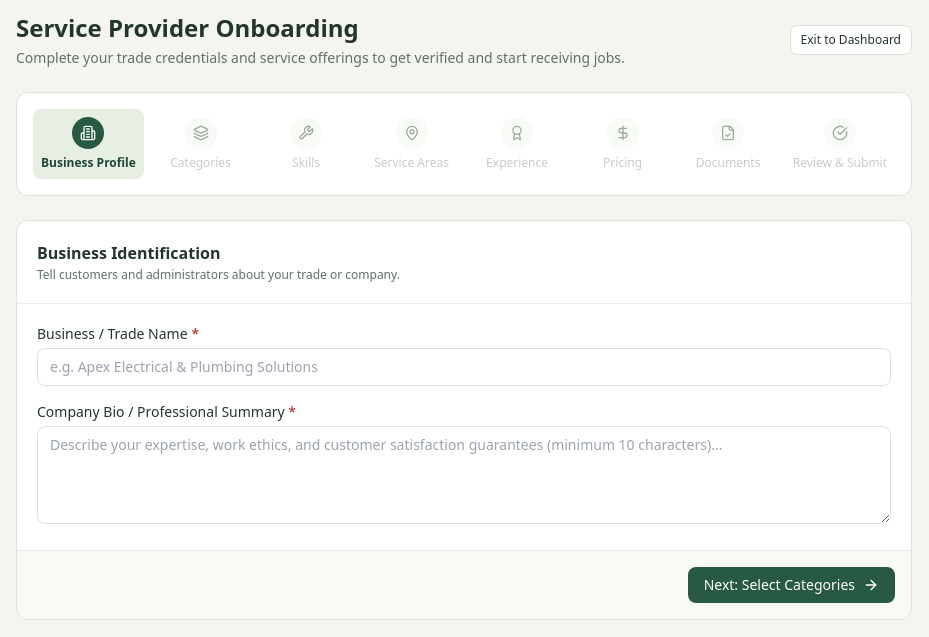
Scenario: Milestone 4: Provider Onboarding, Profile & Admin Verification Frontend › ProviderOnboardingWizard: Category Selection & Resilience › should preserve selected categories when navigating Back to profile and Next again
Type "Apex Co" into the field with placeholder "e.g. Apex Electrical & Plumbing Solutions" at [464, 367], box x1=37 y1=348 x2=891 y2=386
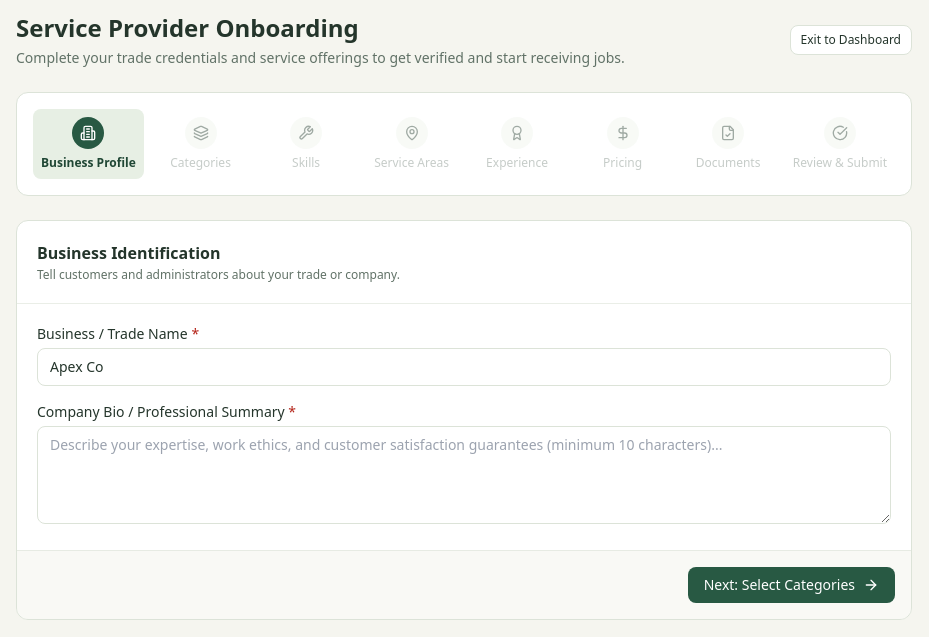
Replace the text in the text box with placeholder "Describe your expertise" with "Valid description with more than ten characters." at [464, 475], box x1=37 y1=426 x2=891 y2=524
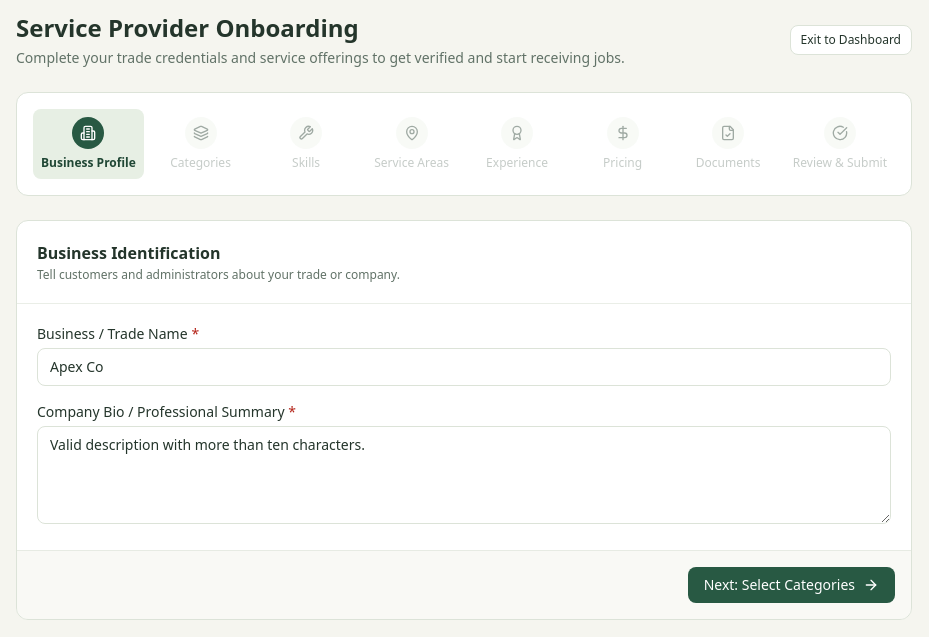
Click the button "Next: Select Categories" at [791, 585], box x1=688 y1=567 x2=895 y2=603
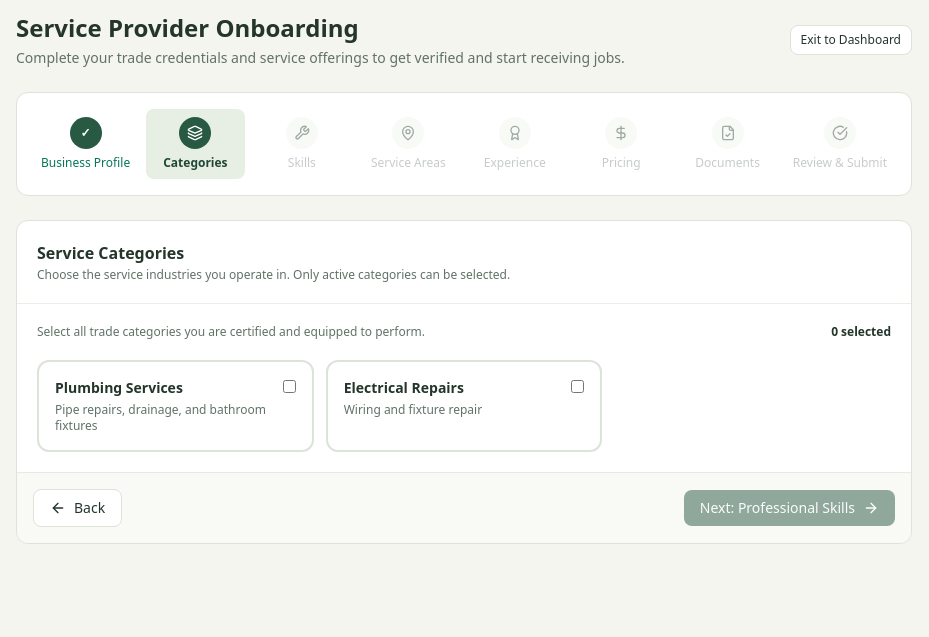
Expected: the text "Plumbing Services" is shown
Click the text "Plumbing Services" at [119, 388], box x1=55 y1=378 x2=183 y2=398
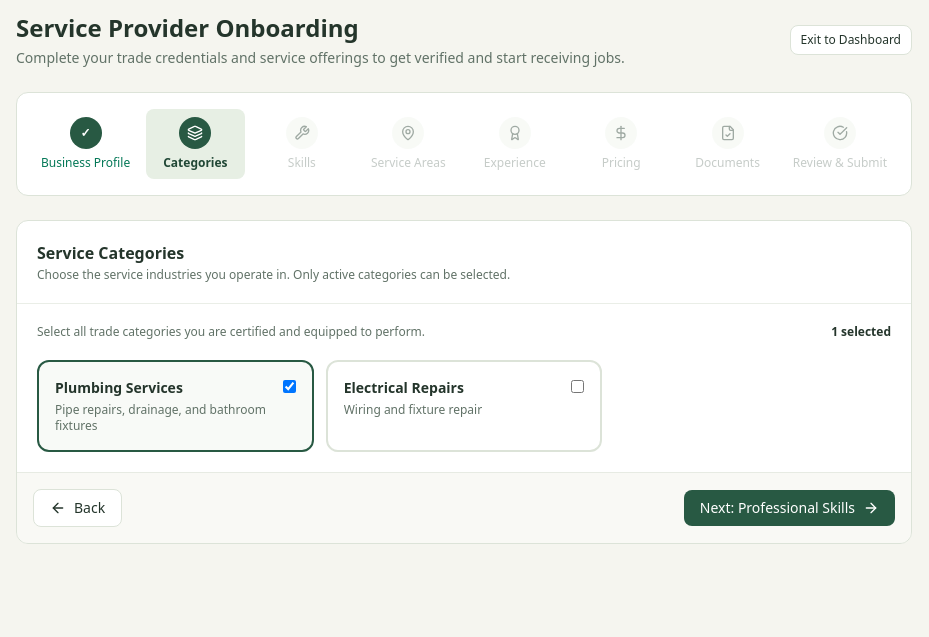
Expected: the text "1 selected" is shown, x1=831 y1=324 x2=891 y2=340
Click Back to Step 1
Click the button "Back" at [78, 508], box x1=33 y1=489 x2=122 y2=527
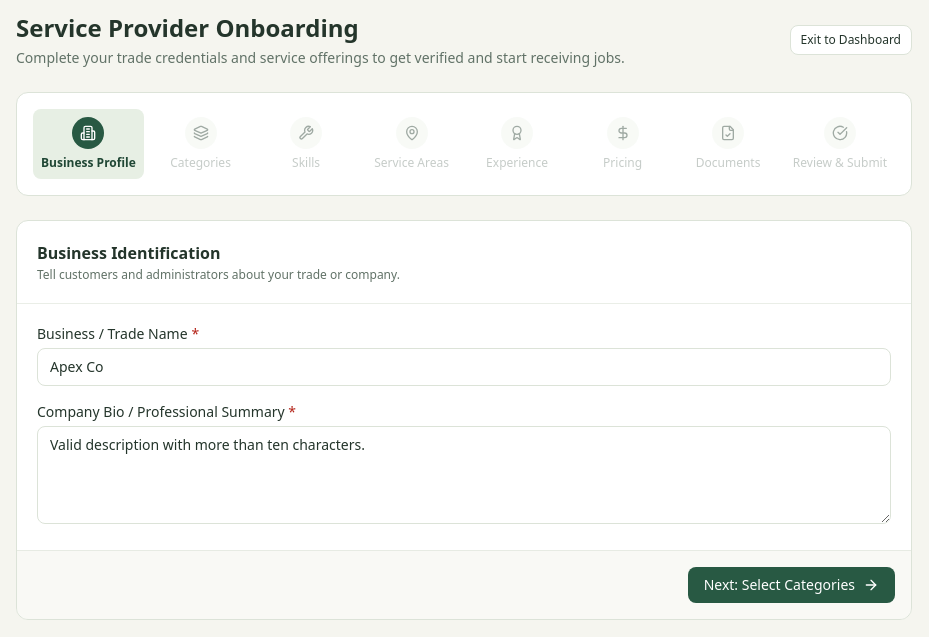
Expected: the heading "Business Identification" is shown, x1=37 y1=242 x2=220 y2=264
Click Next to Step 2 again
Click the button "Next: Select Categories" at [791, 585], box x1=688 y1=567 x2=895 y2=603
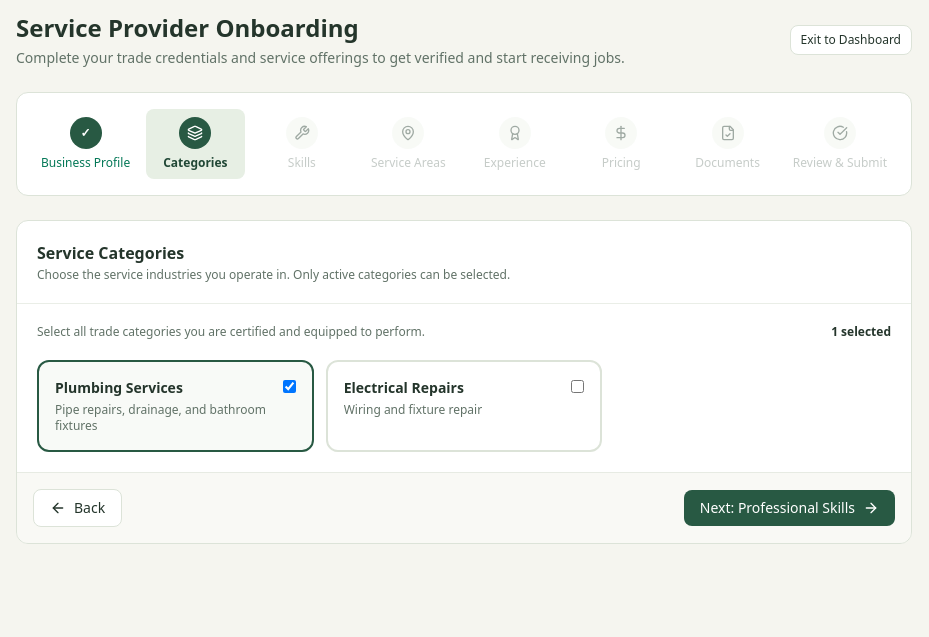
Expected: the heading "Service Categories" is shown, x1=37 y1=242 x2=184 y2=264
Expected: the text "1 selected" is shown, x1=831 y1=324 x2=891 y2=340
